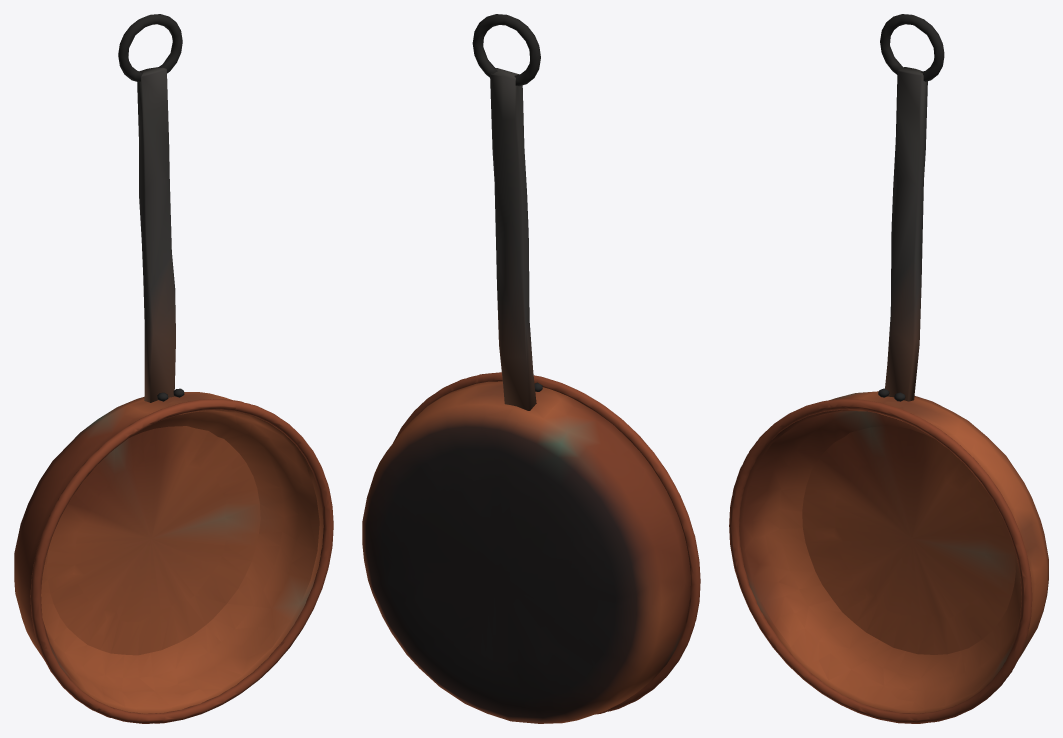
Rendered from ember_copper_pan.glb.
3 views of the same model, side by side, from view 1: azimuth 30°, elevation 25°; view 2: azimuth 150°, elevation 25°; view 3: azimuth 330°, elevation 25° (orthographic). The views are drawn at different scales.
Visible parts, largest first — view 1: ember_copper_pan; view 2: ember_copper_pan; view 3: ember_copper_pan.
Part boxes in pixels (x1,y1,x2,y2): ember_copper_pan: (14, 14, 333, 723); ember_copper_pan: (362, 14, 700, 723); ember_copper_pan: (729, 14, 1048, 723).
Size of the model in its own units: 18.76 by 40.48 by 4.6.
